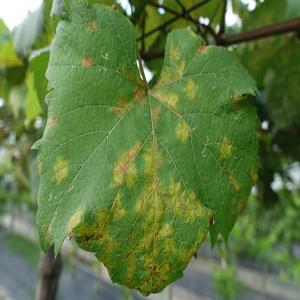Folha: (29, 0, 261, 299)
Fungo: (72, 133, 215, 296), (103, 133, 202, 240), (67, 205, 106, 256), (129, 250, 171, 294), (112, 139, 142, 189), (157, 44, 188, 82), (109, 86, 142, 117), (50, 155, 70, 186), (223, 168, 241, 200), (174, 119, 196, 143), (218, 132, 236, 160), (110, 92, 130, 117), (181, 78, 199, 100), (40, 224, 57, 245), (196, 39, 213, 59), (166, 90, 178, 112), (230, 89, 242, 108), (46, 112, 61, 127), (85, 18, 98, 33), (201, 135, 209, 157), (152, 103, 160, 123), (81, 54, 93, 66), (207, 209, 215, 225), (100, 49, 110, 61), (133, 86, 141, 100), (120, 162, 128, 172), (126, 151, 134, 159), (67, 231, 73, 240)
